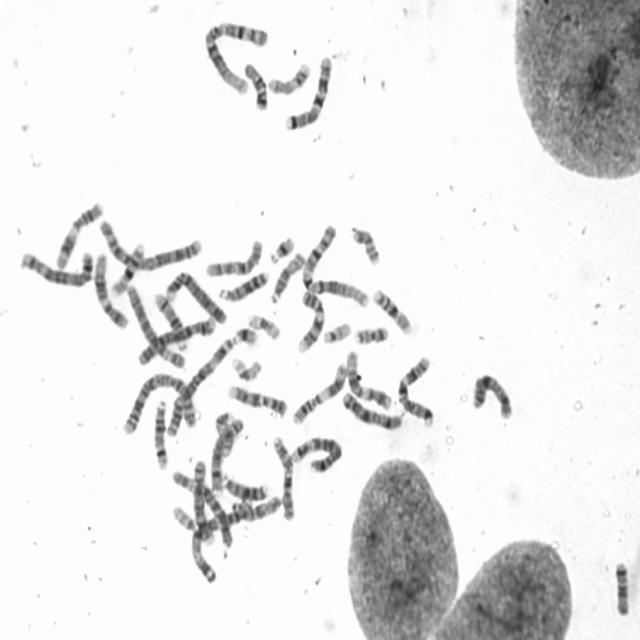A1: (298, 220, 372, 308), (201, 16, 270, 97)
A2: (95, 214, 205, 272), (120, 368, 200, 437)
A3: (164, 333, 236, 437), (188, 508, 240, 585)
B4: (134, 314, 218, 367), (162, 266, 229, 326)
B5: (17, 245, 96, 289), (288, 432, 344, 474)
C10: (202, 234, 265, 279), (270, 430, 297, 522)
C11: (289, 358, 350, 427), (51, 197, 106, 270)
C12: (343, 346, 395, 411), (91, 248, 130, 330)
C6: (124, 278, 188, 369), (169, 463, 235, 549)
C7: (282, 51, 335, 132), (394, 352, 438, 428)
C8: (207, 412, 245, 496), (192, 458, 218, 544)
C9: (224, 380, 290, 418), (295, 286, 327, 354)
D13: (216, 266, 270, 303), (219, 469, 269, 502)
D14: (150, 287, 189, 354), (150, 394, 170, 472)
D15: (266, 247, 306, 305), (230, 487, 290, 525)
E16: (108, 238, 148, 298), (369, 283, 413, 336)
E17: (265, 57, 313, 97), (212, 406, 236, 453)
E18: (240, 58, 270, 112), (611, 555, 633, 618)
F19: (245, 309, 282, 342), (228, 352, 264, 384)
F20: (348, 222, 381, 266), (352, 320, 391, 346)
G21: (266, 231, 296, 265), (232, 322, 258, 347)
G22: (320, 317, 354, 345), (169, 501, 198, 533)
X: (339, 388, 405, 431), (469, 368, 515, 422)
